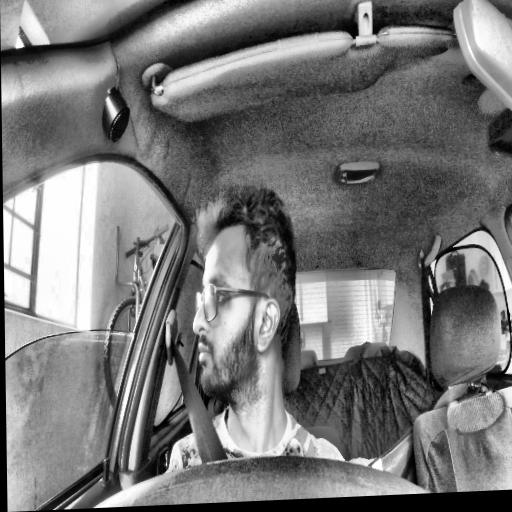awake: (191, 186, 299, 406)
